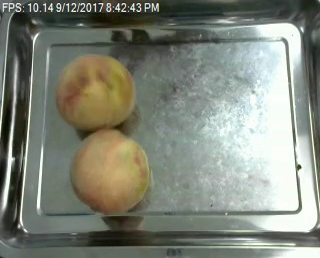Peach: (71, 128, 150, 215), (55, 53, 135, 130)
